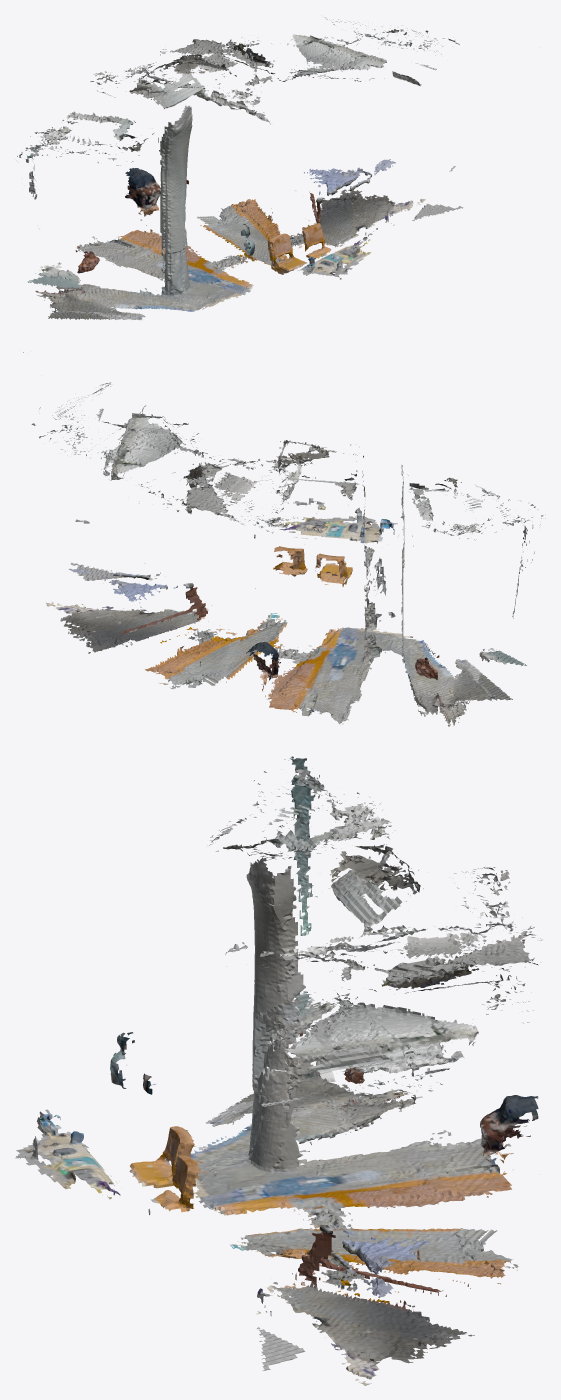
File: world.glb
The picture shows the model from 3 angles, top to bottom: view 1: azimuth 30°, elevation 25°; view 2: azimuth 150°, elevation 25°; view 3: azimuth 270°, elevation 25°; orthographic projection. The views are drawn at different scales.
Parts seen in each view (by area): view 1: world; view 2: world; view 3: world.
Part boxes in pixels (box(x1,y1,x2,y2)): world: box(16, 17, 463, 320); world: box(23, 352, 545, 726); world: box(15, 756, 541, 1385).
Bounding box in the file's own units: 10.01 × 4.04 × 5.44.
